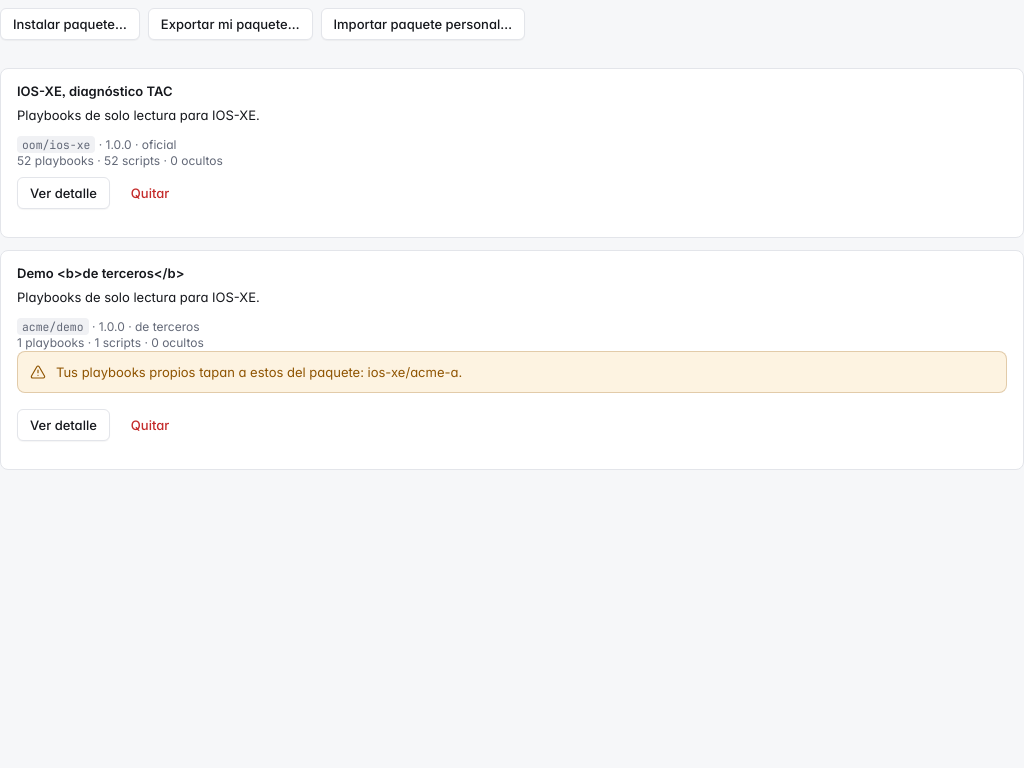
Scenario: el detalle muestra el README como texto y nunca ejecuta HTML
Click the button "Ver detalle" below "IOS-XE, diagnóstico TAC" at (63, 193), box [17, 177, 110, 209]
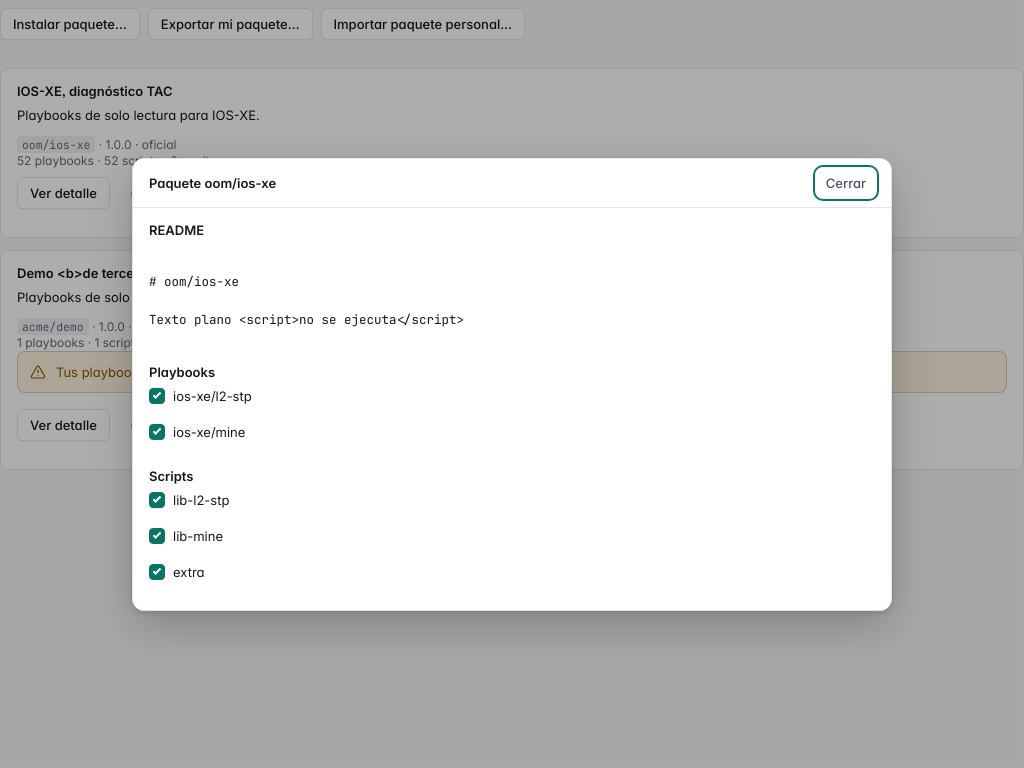
Result: the text "# oom/ios-xe Texto plano <script>no se ejecuta</script>" is shown at [149, 273, 464, 328]
